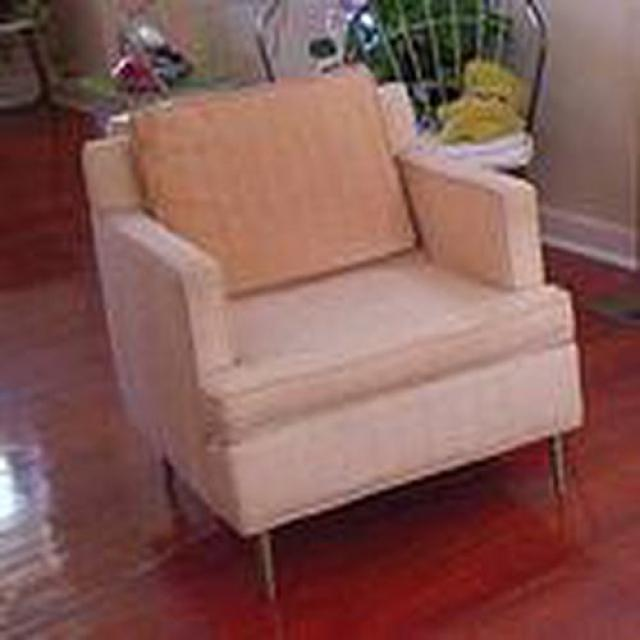sofa: (81, 72, 588, 605)
